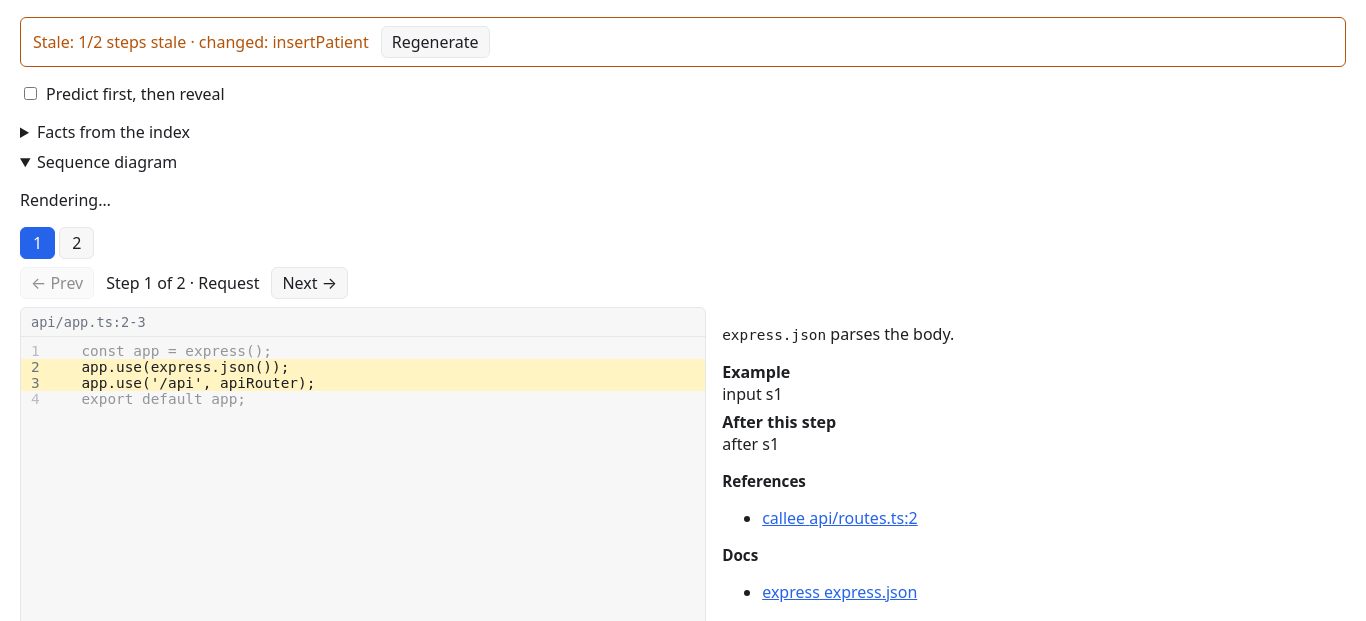
Scenario: predict first, then reveal › starts afresh when the step is re-explained
(page scrolled)
Click the checkbox labelled "Predict first, then reveal": (30,94) [24, 87, 37, 100]
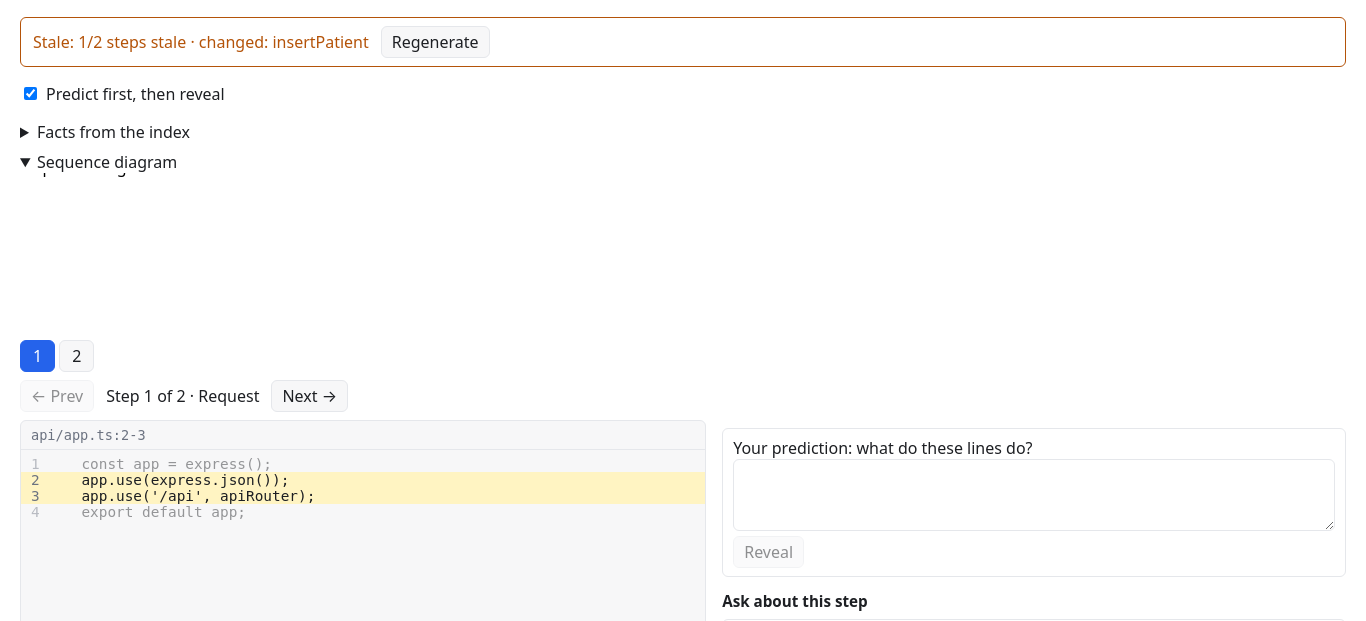
In the text box labelled "Your prediction: what do these lines do?": (1034,495) [733, 459, 1335, 531], type "Old guess."
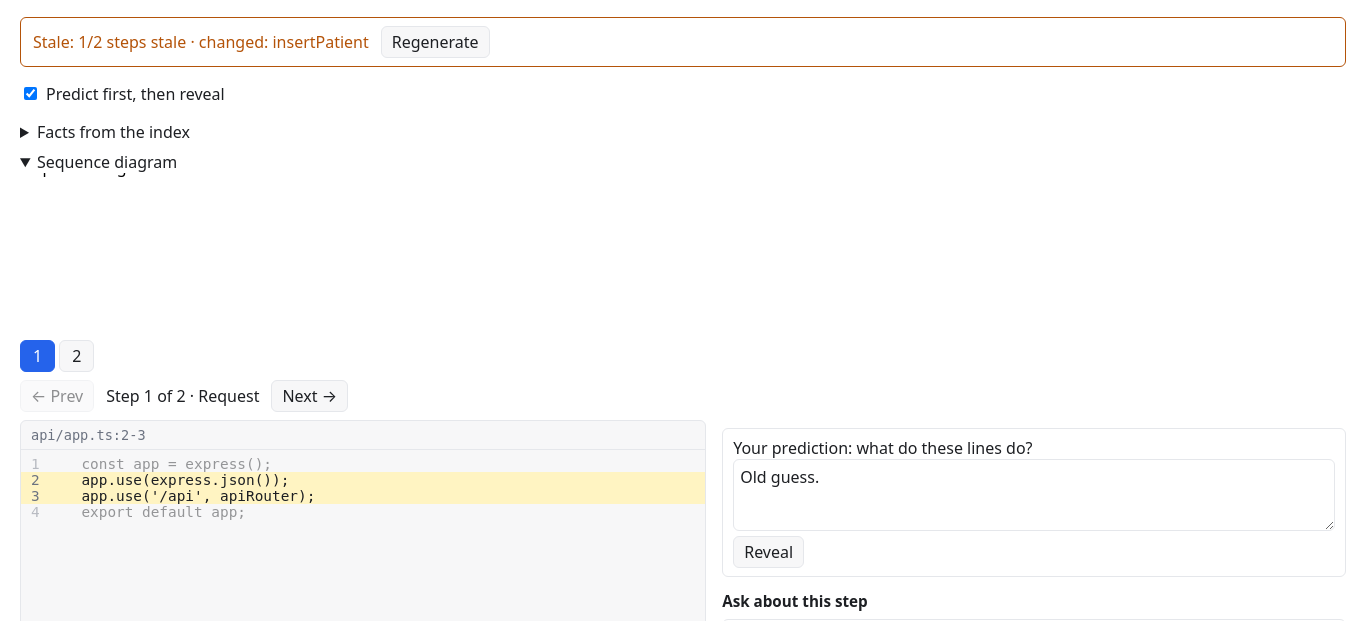
Click the button "Reveal": (769,552) [733, 536, 804, 568]
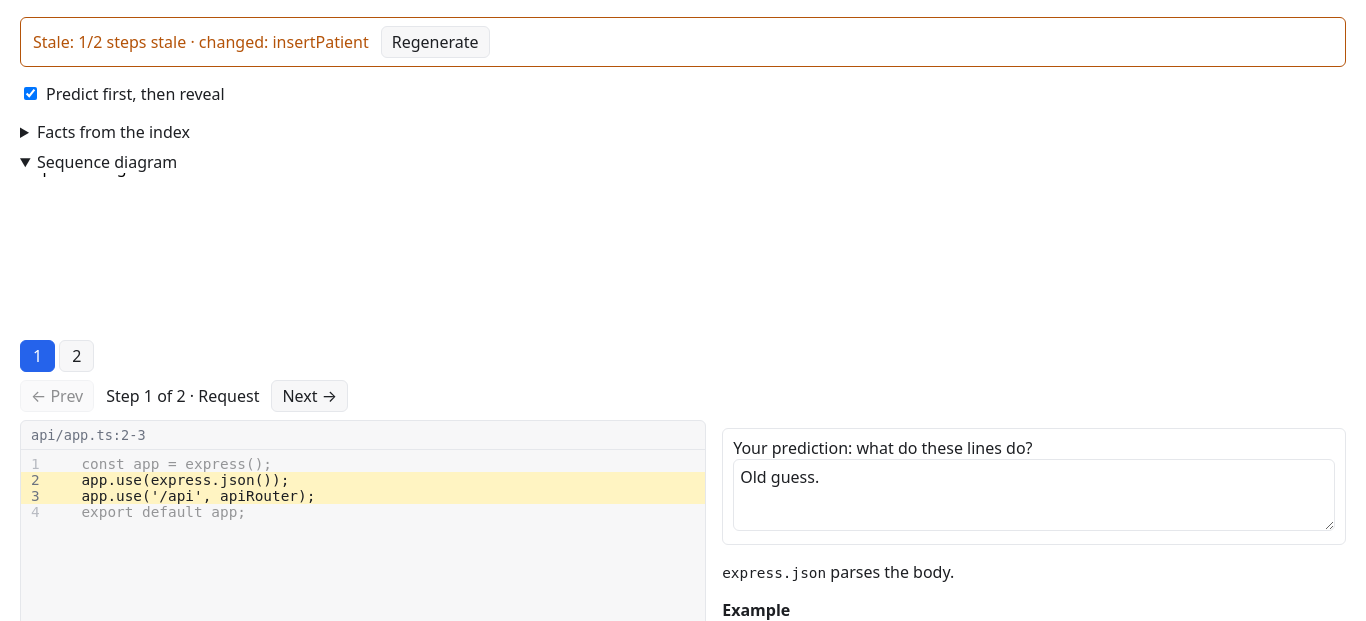
Click the button "Regenerate": (435,42) [381, 26, 490, 58]
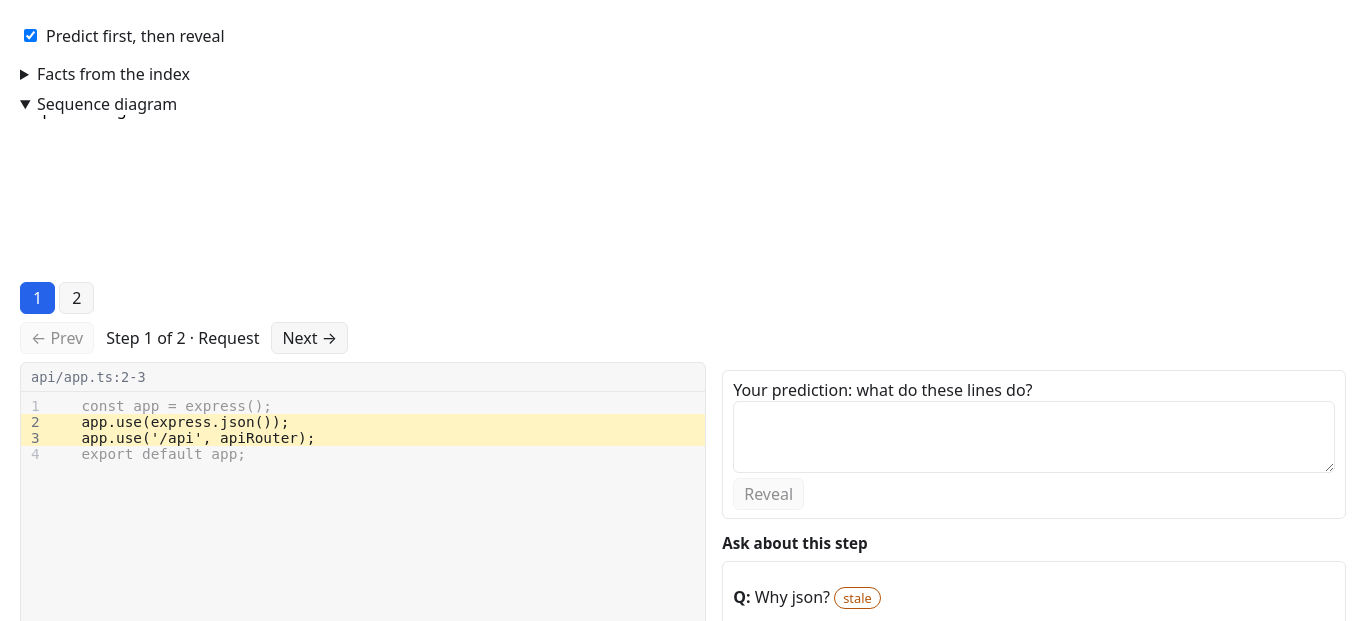
Expected: the text "Step 1 of 2 · Request" is shown, [106, 327, 259, 349]
Result: the button "Regenerate" is gone
Result: the text box labelled "Your prediction: what do these lines do?" is empty at [733, 401, 1335, 473]
